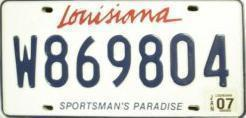placa de veiculo: (5, 2, 239, 114)
